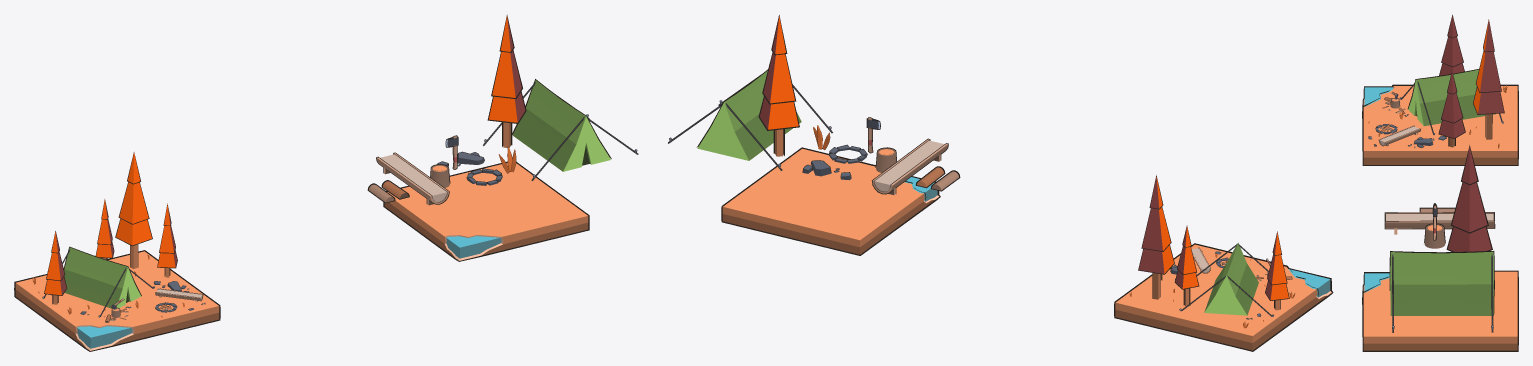
3 views of the same model, side by side, from view 1: azimuth 30°, elevation 25°; view 2: azimuth 150°, elevation 25°; view 3: azimuth 270°, elevation 25° (orthographic). The views are drawn at different scales.
Parts seen in each view (by area): view 1: campsite, floor, tent, tree, black, bench; view 2: campsite, floor, tent, tree, black, bench; view 3: campsite, floor, tent, tree, black, bench, wood3, wood1, axe.
Boxes of the visible parts, x1,y1,x2,y2 form: campsite: (15, 153, 219, 350); floor: (383, 161, 589, 261); tent: (483, 79, 638, 180); tree: (487, 14, 526, 147); black: (14, 152, 220, 351); bench: (376, 152, 449, 205); campsite: (1115, 176, 1331, 350); floor: (721, 147, 940, 255); tent: (668, 69, 832, 170); tree: (758, 15, 799, 156); black: (1114, 175, 1333, 351); bench: (871, 138, 948, 195); campsite: (1363, 15, 1517, 164); floor: (1362, 270, 1518, 351); tent: (1389, 251, 1494, 332); tree: (1446, 145, 1492, 251); black: (1362, 14, 1518, 165); bench: (1384, 212, 1495, 234); wood3: (1424, 223, 1445, 248); wood1: (1419, 207, 1455, 212); axe: (1432, 203, 1437, 240).
Bounding box in the file's own units: 58 × 18.2 × 13.48.
Materials: 2 (2 with a texture image).
